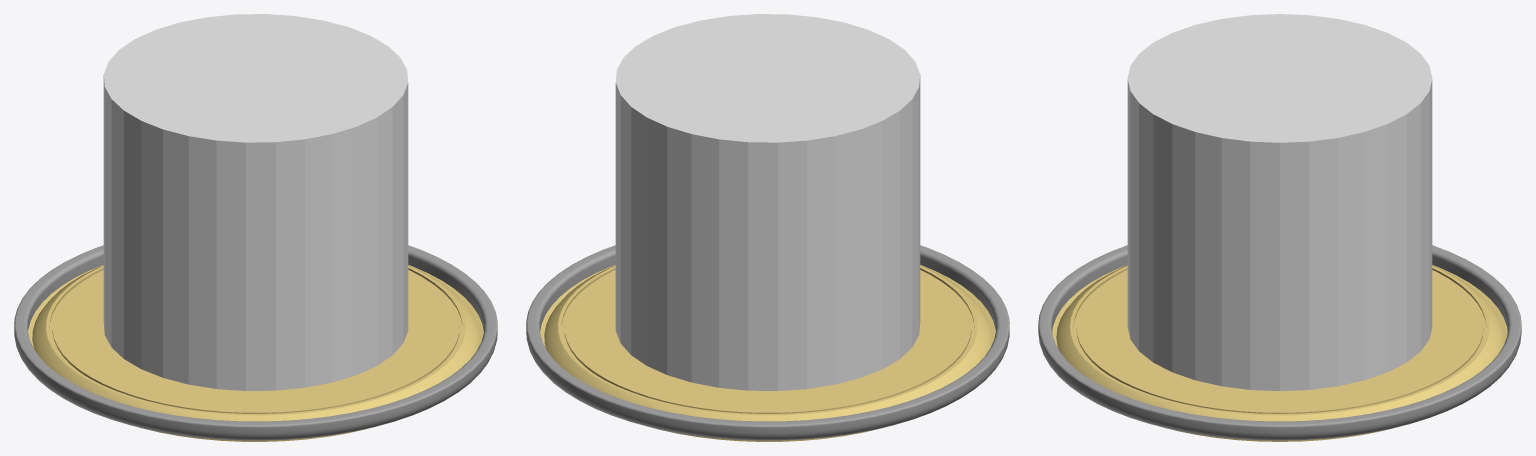
File: Tower Lvl 1 Test.fbx
3 views of the same model, side by side, from view 1: azimuth 30°, elevation 25°; view 2: azimuth 150°, elevation 25°; view 3: azimuth 270°, elevation 25° (orthographic).
Visible parts, largest first — view 1: Cylinder.005, Cylinder; view 2: Cylinder.005, Cylinder; view 3: Cylinder.005, Cylinder.
Part boxes in pixels (x1,y1,x2,y2): Cylinder.005: (103, 14, 408, 390); Cylinder: (14, 245, 497, 441); Cylinder.005: (615, 14, 920, 390); Cylinder: (526, 245, 1009, 441); Cylinder.005: (1127, 14, 1432, 391); Cylinder: (1038, 245, 1521, 441).
Bounding box in the file's own units: 200 × 124 × 200.
